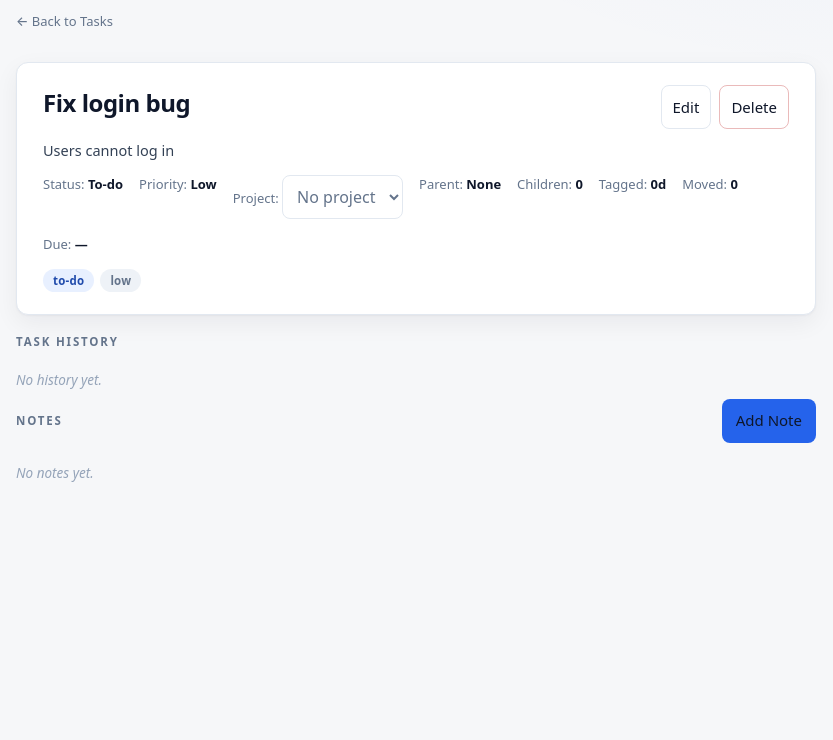
Test: TaskDetailPage › cancel in edit form returns to view mode
Click the button "Edit" at (686, 107), box [660,85,711,129]
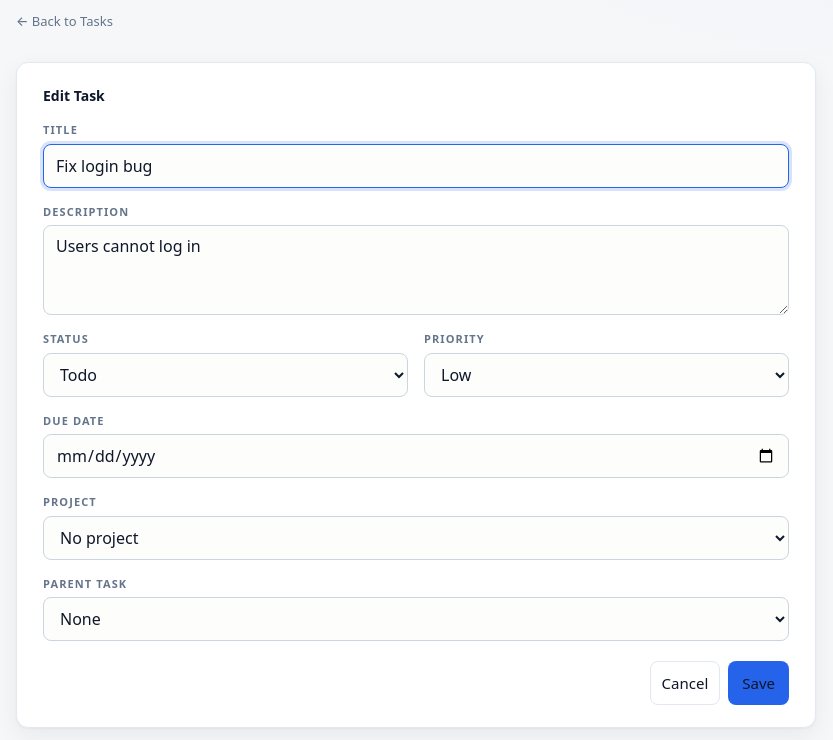
expect the field labelled "Title" is shown: met, box [43,144,789,188]
Click the button "Cancel" at (685, 683), box [650,661,720,705]
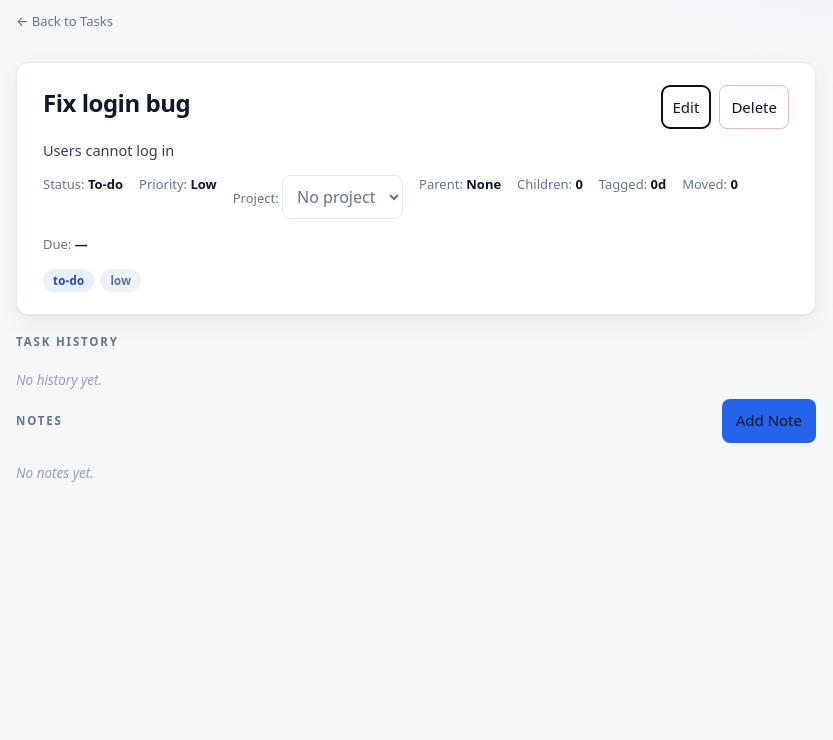
expect the label labelled "Title" is gone: met
expect the heading "Fix login bug" is shown: met, box [43,85,190,121]
